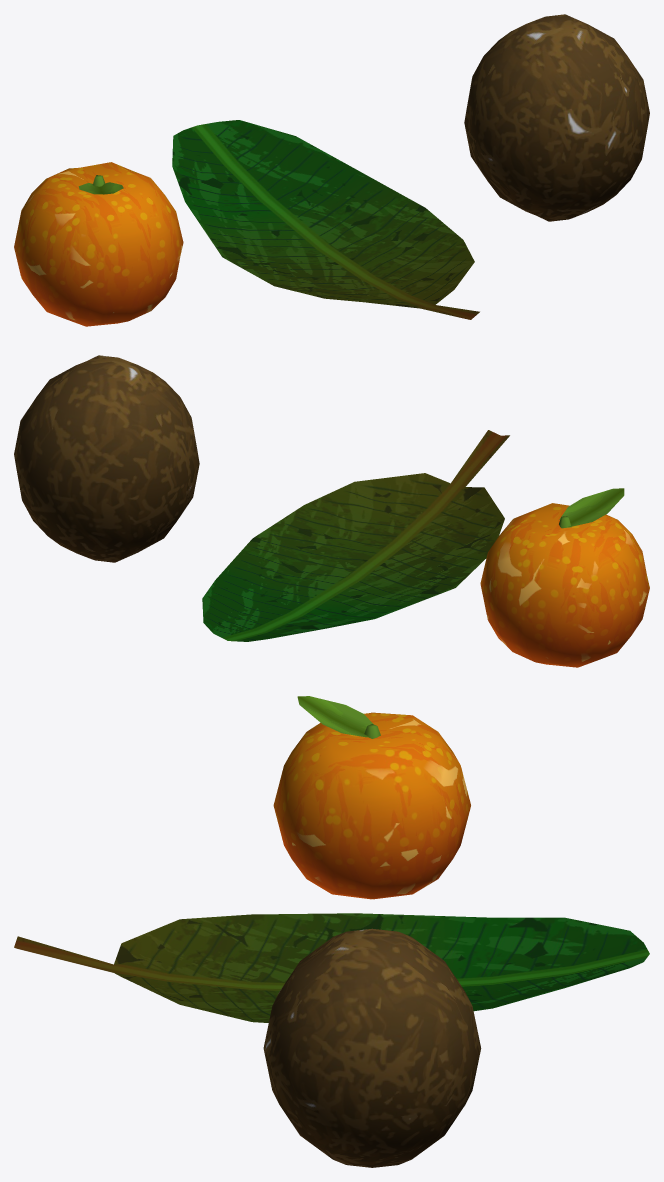
Rendered from fruits.glb.
3 renders of one model, top to bottom at view 1: azimuth 30°, elevation 25°; view 2: azimuth 150°, elevation 25°; view 3: azimuth 270°, elevation 25°, orthographic. The views are drawn at different scales.
Parts seen in each view (by area): view 1: fruits_leaf, fruits_coconut, fruits_orange; view 2: fruits_leaf, fruits_coconut, fruits_orange; view 3: fruits_coconut, fruits_leaf, fruits_orange.
Boxes of the visible parts, bbox=[...] form: fruits_leaf: bbox=[172, 120, 479, 319]; fruits_coconut: bbox=[464, 14, 649, 221]; fruits_orange: bbox=[14, 162, 183, 326]; fruits_leaf: bbox=[202, 430, 509, 641]; fruits_coconut: bbox=[14, 355, 199, 562]; fruits_orange: bbox=[480, 488, 649, 667]; fruits_coconut: bbox=[263, 928, 481, 1167]; fruits_leaf: bbox=[14, 913, 649, 1022]; fruits_orange: bbox=[273, 696, 470, 899].
Size of the model in its own units: 4.64 by 1.37 by 3.58.
Materials: 1 (1 with a texture image).
